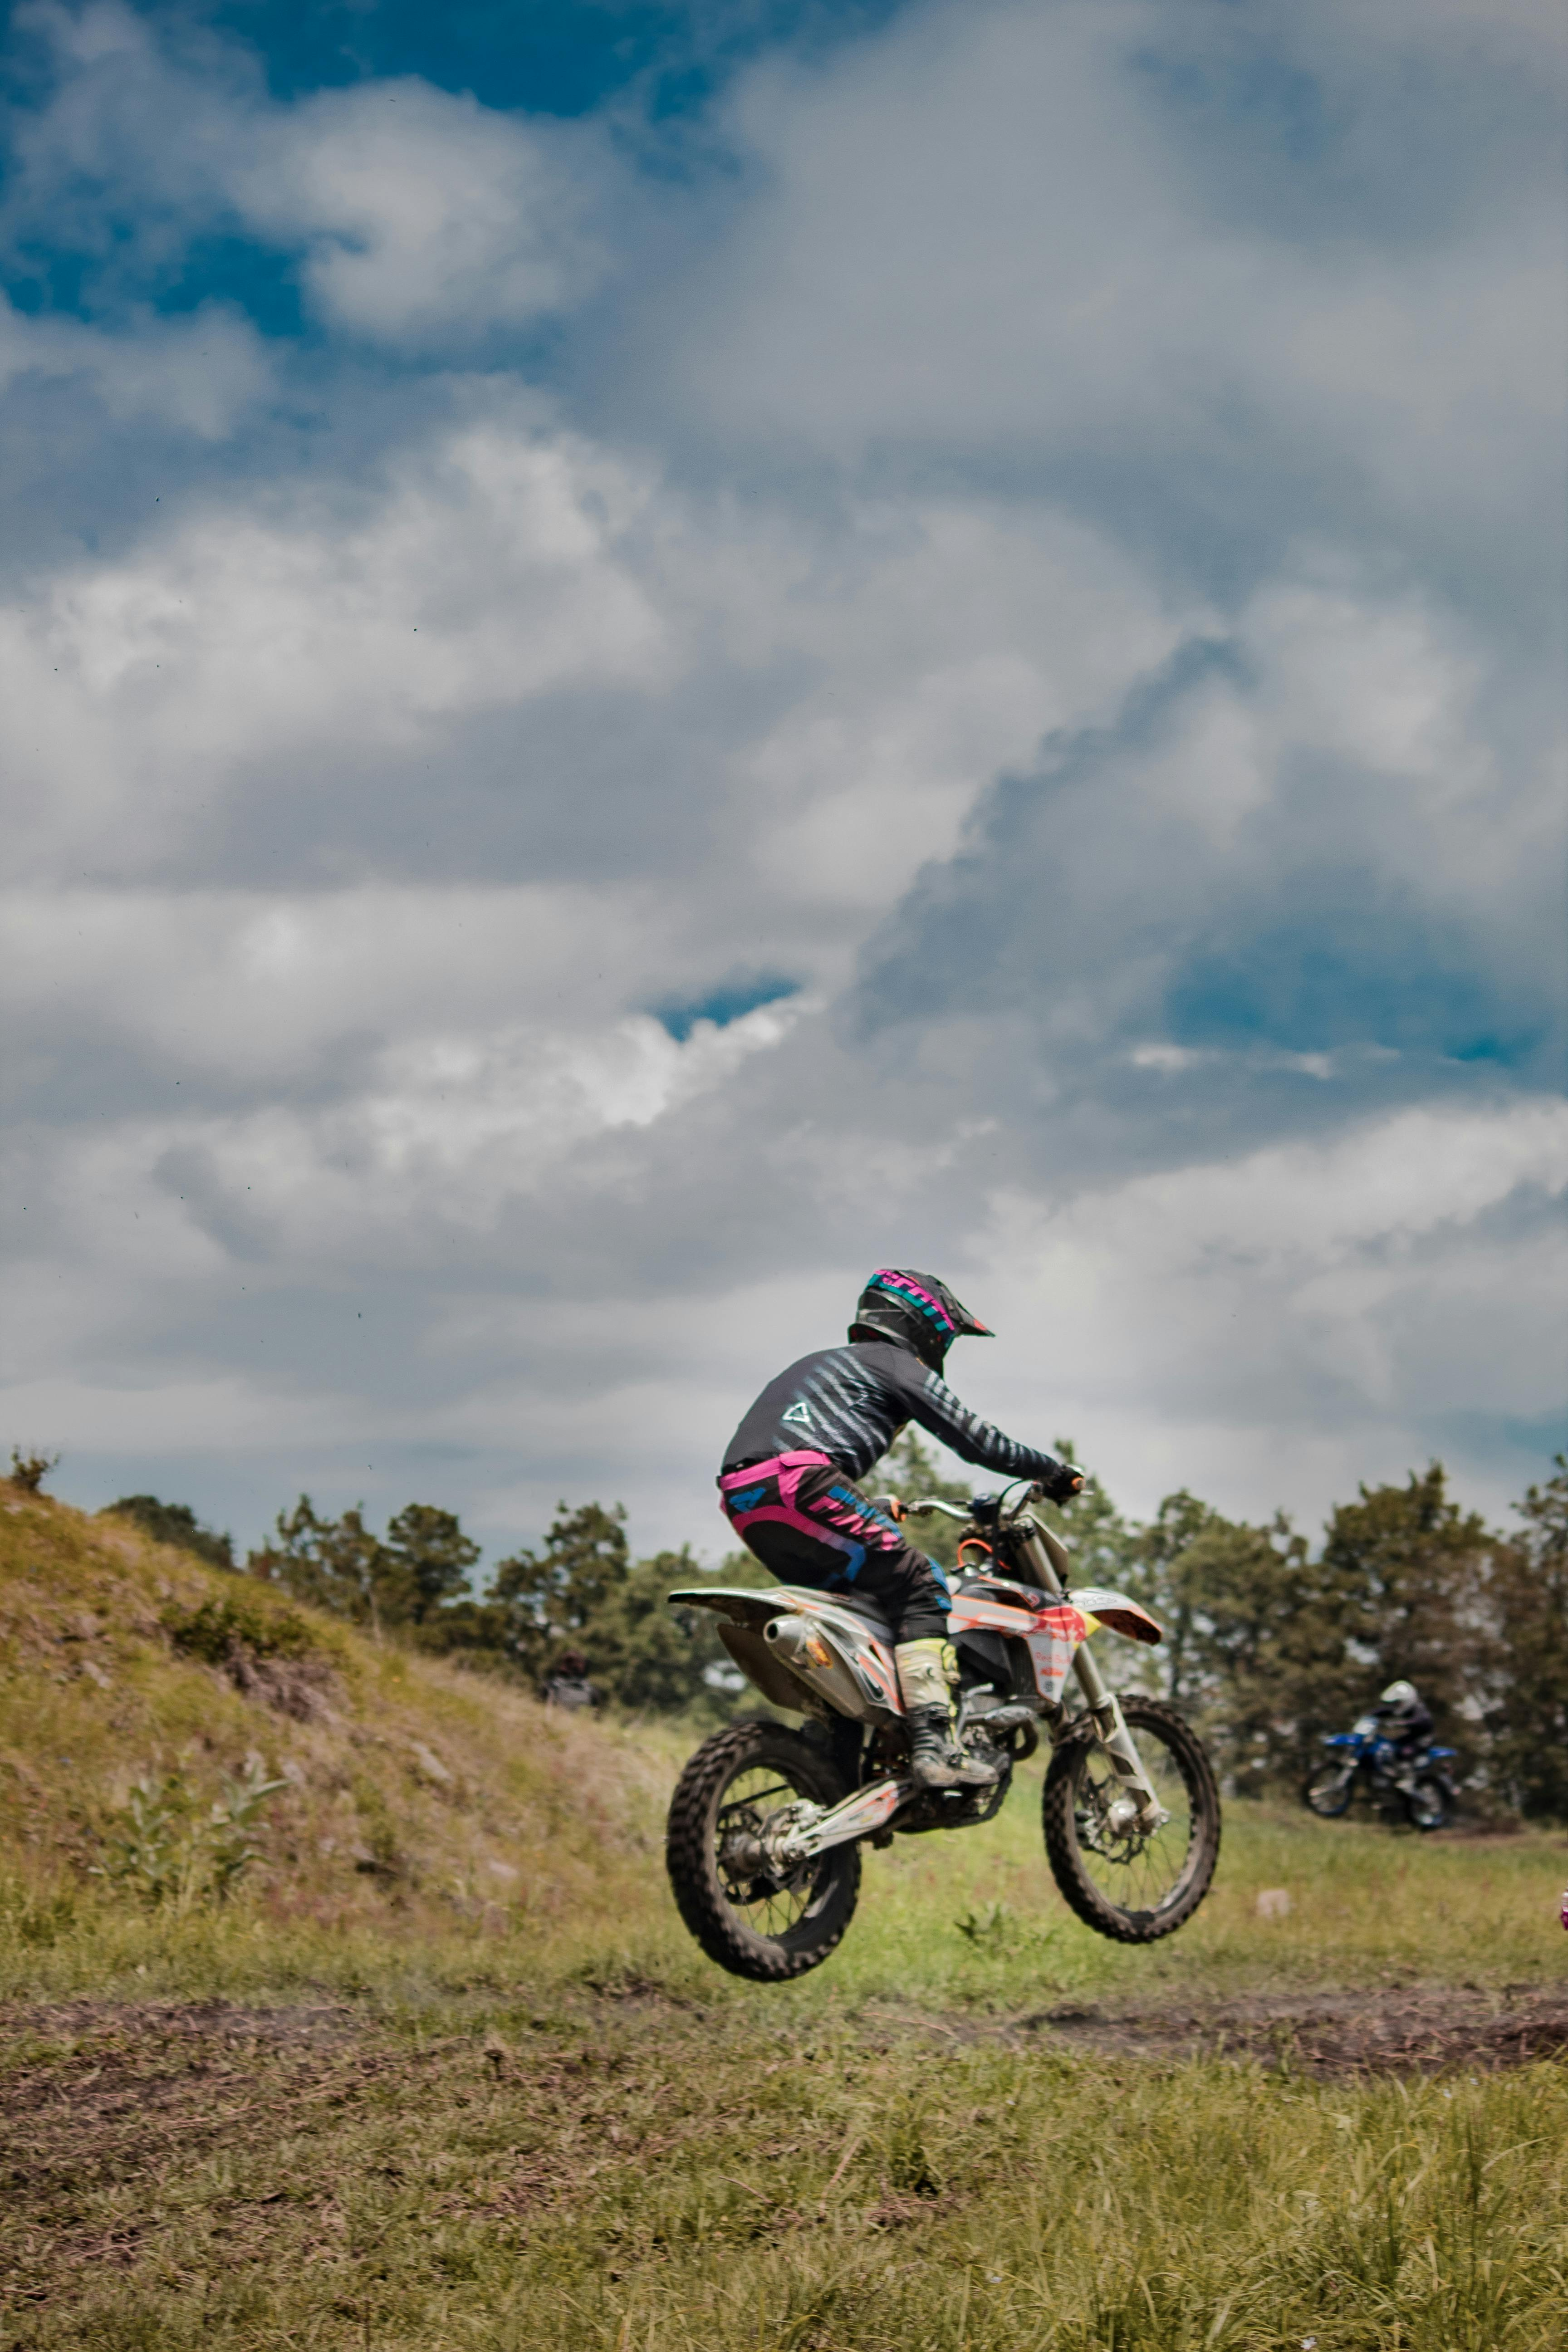capacete: (838, 1255, 994, 1388)
